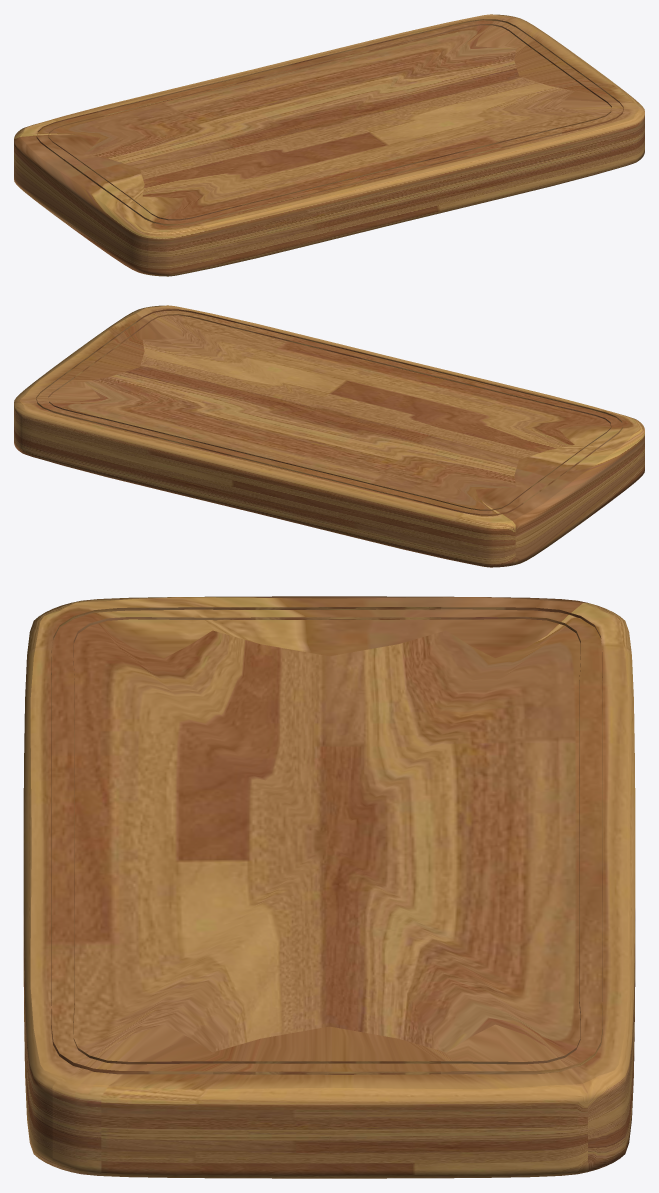
The model's file is board.fbx.
The picture shows the model from 3 angles, top to bottom: view 1: azimuth 30°, elevation 25°; view 2: azimuth 150°, elevation 25°; view 3: azimuth 270°, elevation 25°; orthographic projection. The views are drawn at different scales.
Parts seen in each view (by area): view 1: polySurface21, polySurface14, polySurface19; view 2: polySurface21, polySurface14, polySurface19; view 3: polySurface21, polySurface19, polySurface14.
Part boxes in pixels (<box>): polySurface21: <box>20,14,638,232</box>; polySurface14: <box>16,14,643,276</box>; polySurface19: <box>14,15,644,274</box>; polySurface21: <box>20,305,638,523</box>; polySurface14: <box>15,305,644,567</box>; polySurface19: <box>14,306,644,566</box>; polySurface21: <box>30,597,628,1089</box>; polySurface19: <box>52,596,606,1178</box>; polySurface14: <box>23,605,635,1165</box>.
Bounding box in the file's own units: 51.15 × 4.5 × 26.32.
